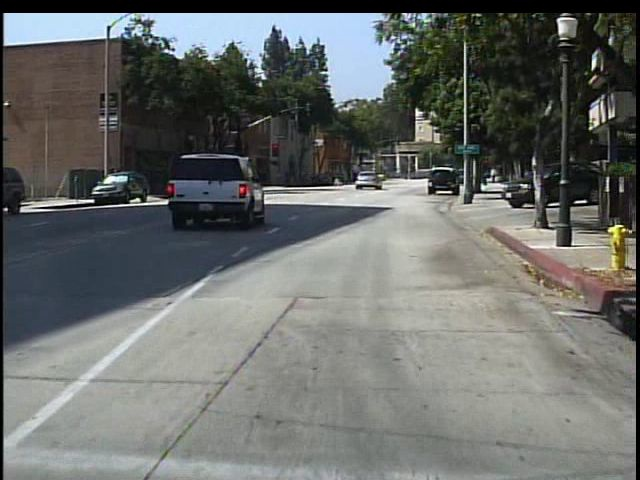person: (331, 168, 347, 189), (489, 166, 500, 186)
